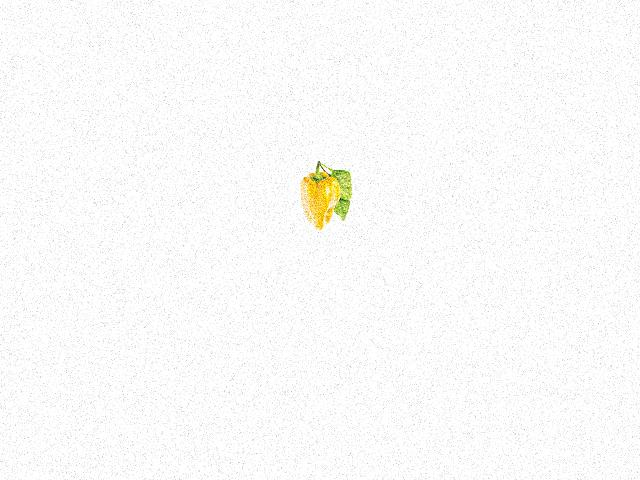bell_pepper: (296, 159, 341, 231)
